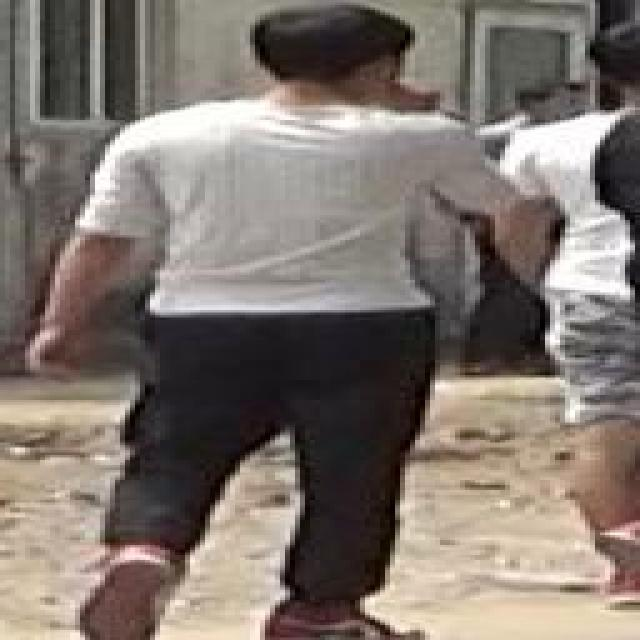adult: (12, 0, 499, 640), (494, 22, 640, 606)
